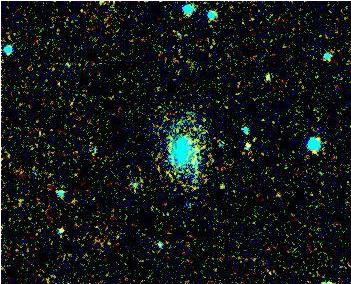star: (206, 172, 236, 202)
